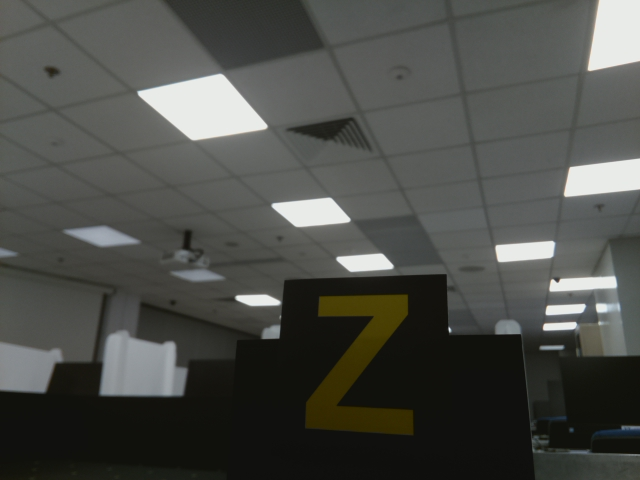z: (306, 290, 421, 444)
